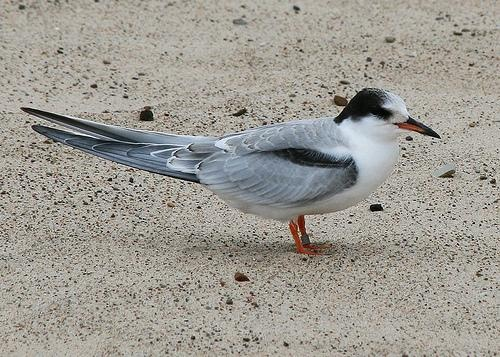bird: (20, 85, 441, 257)
